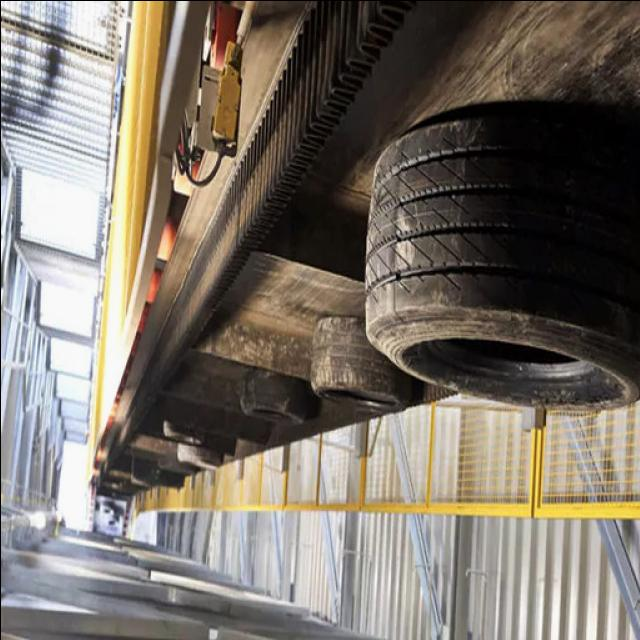conveyor: (92, 0, 640, 499)
